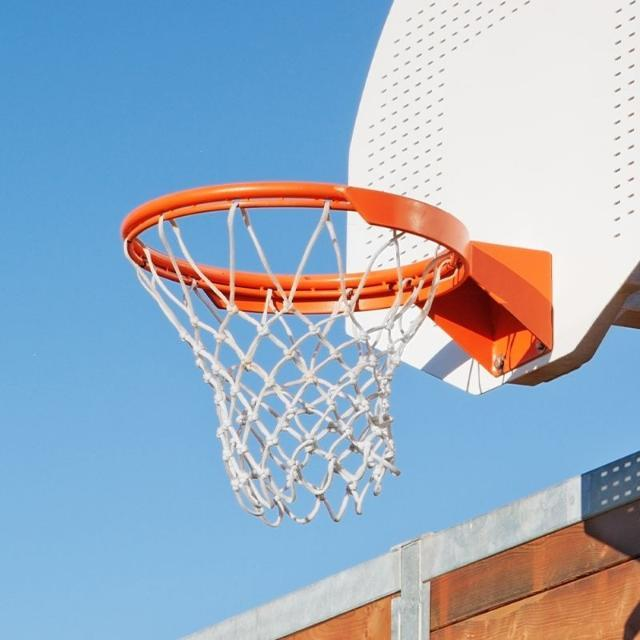rim: (122, 181, 470, 523)
